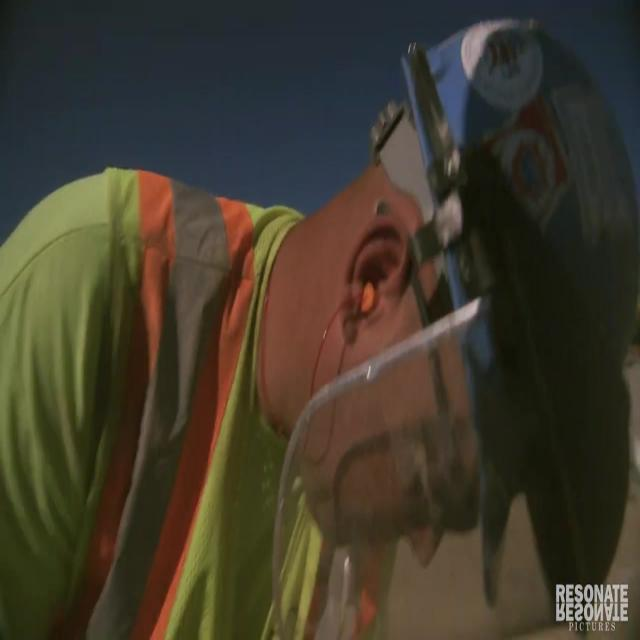Reflective-Jacket: (0, 165, 280, 630)
